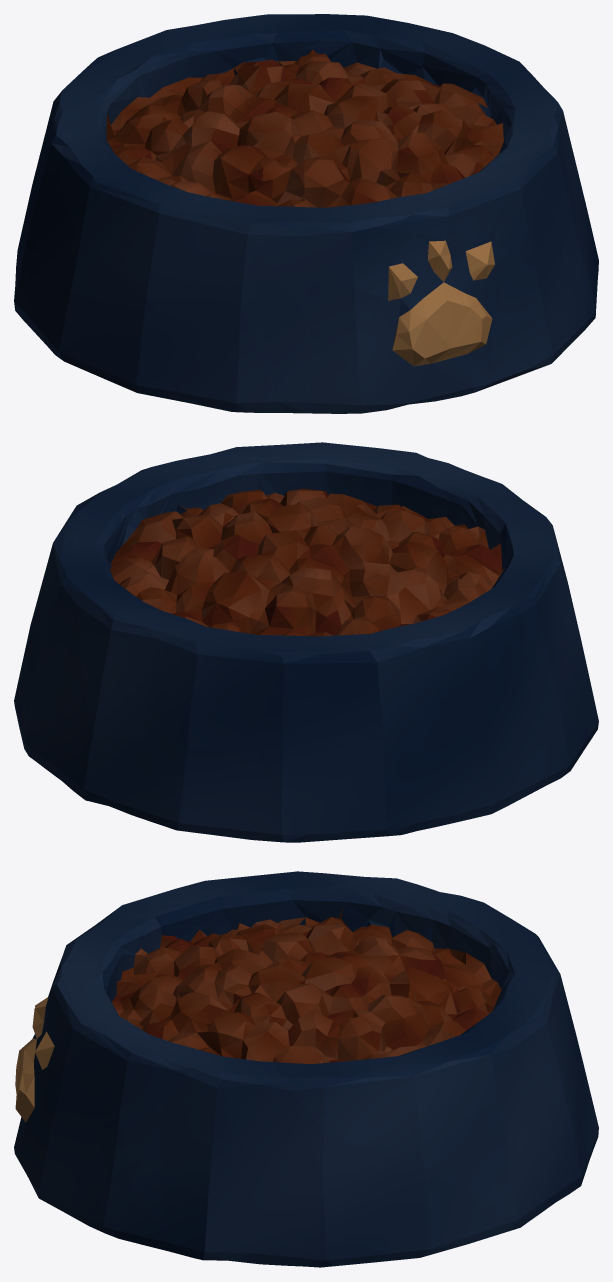
Rendered from DogFoodBowl_Unity_MaterialSeparated.fbx.
The picture shows the model from 3 angles, top to bottom: view 1: azimuth 30°, elevation 25°; view 2: azimuth 150°, elevation 25°; view 3: azimuth 270°, elevation 25°; orthographic projection.
Parts seen in each view (by area): view 1: DogFoodBowl; view 2: DogFoodBowl; view 3: DogFoodBowl.
Boxes of the visible parts, x1,y1,x2,y2 form: DogFoodBowl: [14, 14, 598, 413]; DogFoodBowl: [14, 442, 598, 842]; DogFoodBowl: [14, 871, 598, 1267].
Bounding box in the file's own units: 1.72 × 0.6185 × 1.73.
